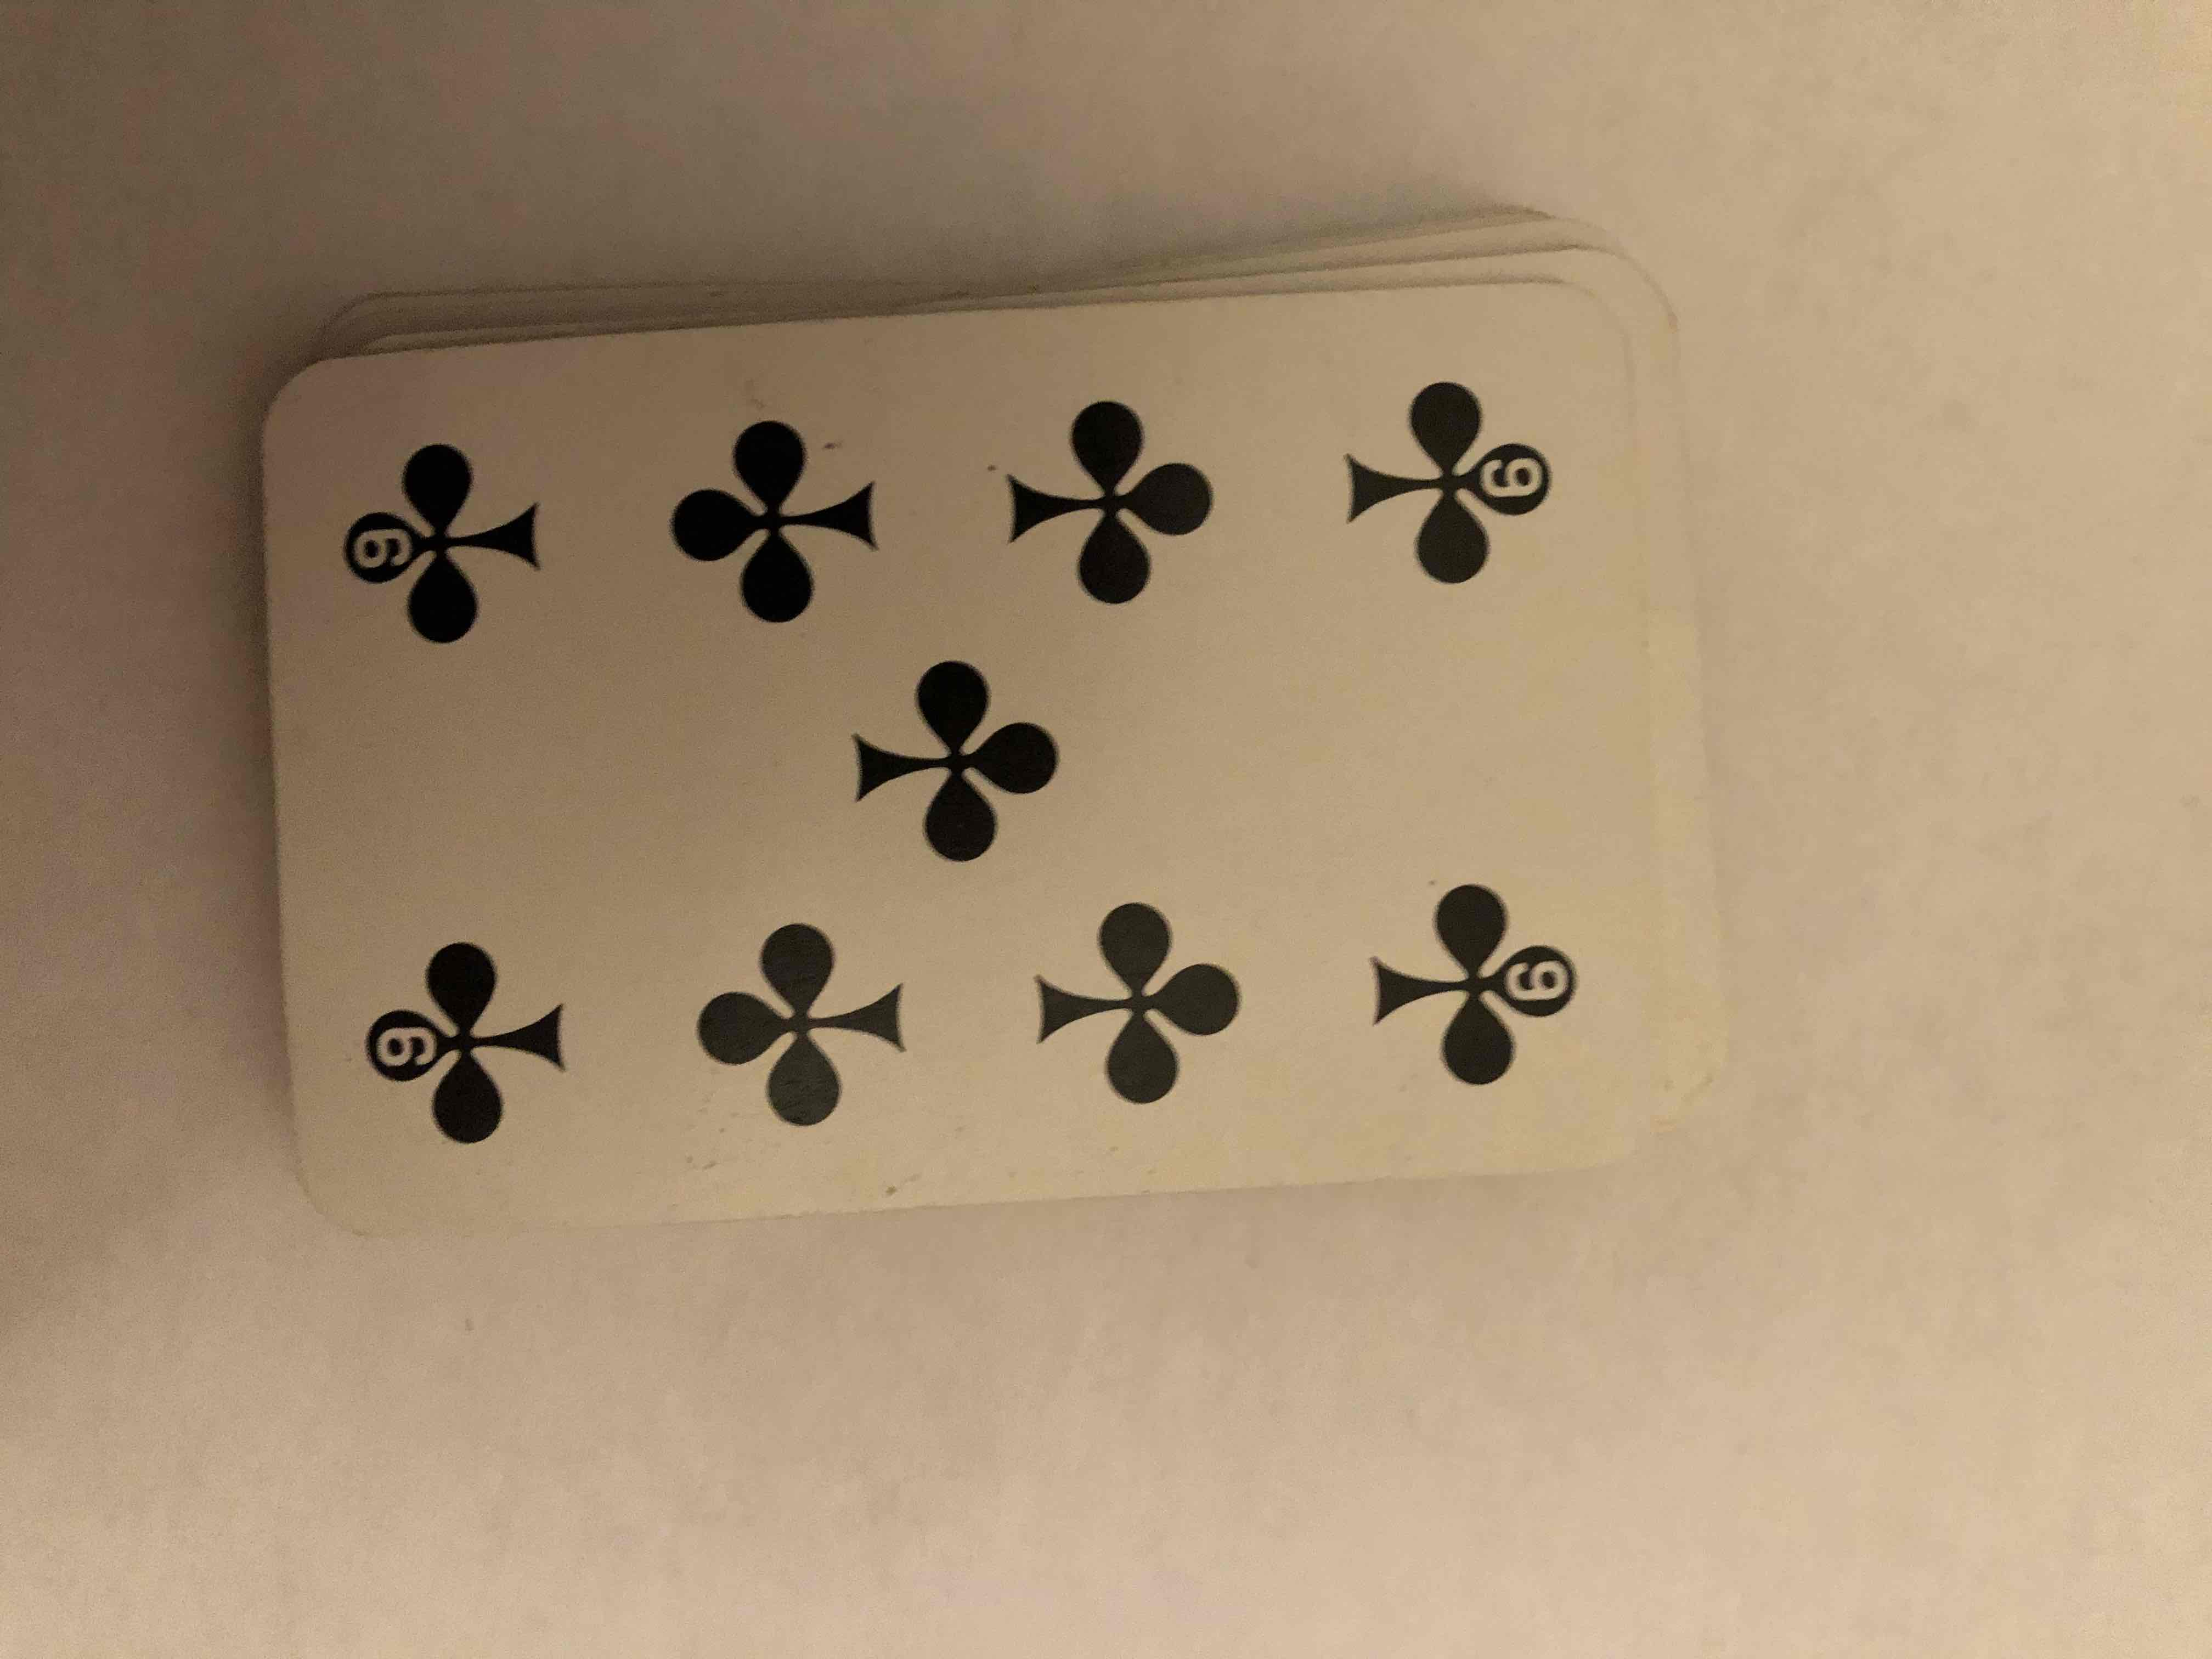clubs9: (261, 293, 1738, 1162)
